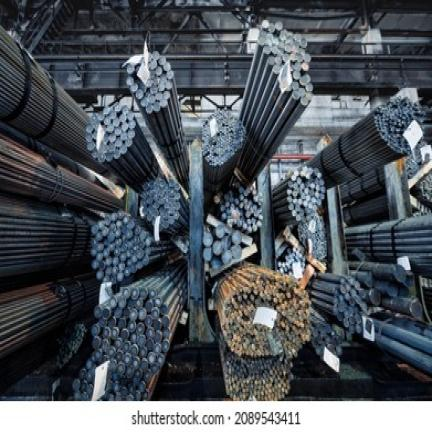besi_tidak_karat: (0, 26, 104, 173), (74, 264, 186, 398), (238, 23, 312, 181), (306, 97, 422, 188), (0, 191, 96, 287), (126, 51, 187, 188), (87, 102, 161, 191), (92, 210, 151, 281), (202, 108, 244, 199), (272, 165, 325, 224), (140, 177, 188, 231), (219, 182, 261, 233), (202, 222, 242, 267)
karat: (0, 136, 122, 211), (215, 262, 309, 358), (0, 137, 122, 210), (0, 272, 98, 358), (222, 343, 291, 400)
